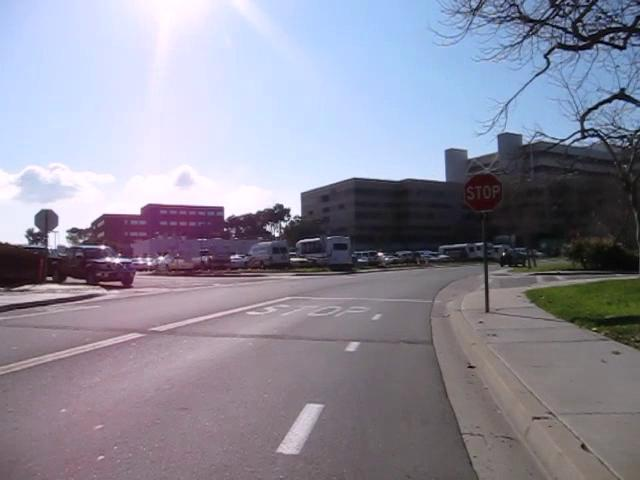stop: (463, 171, 504, 213)
